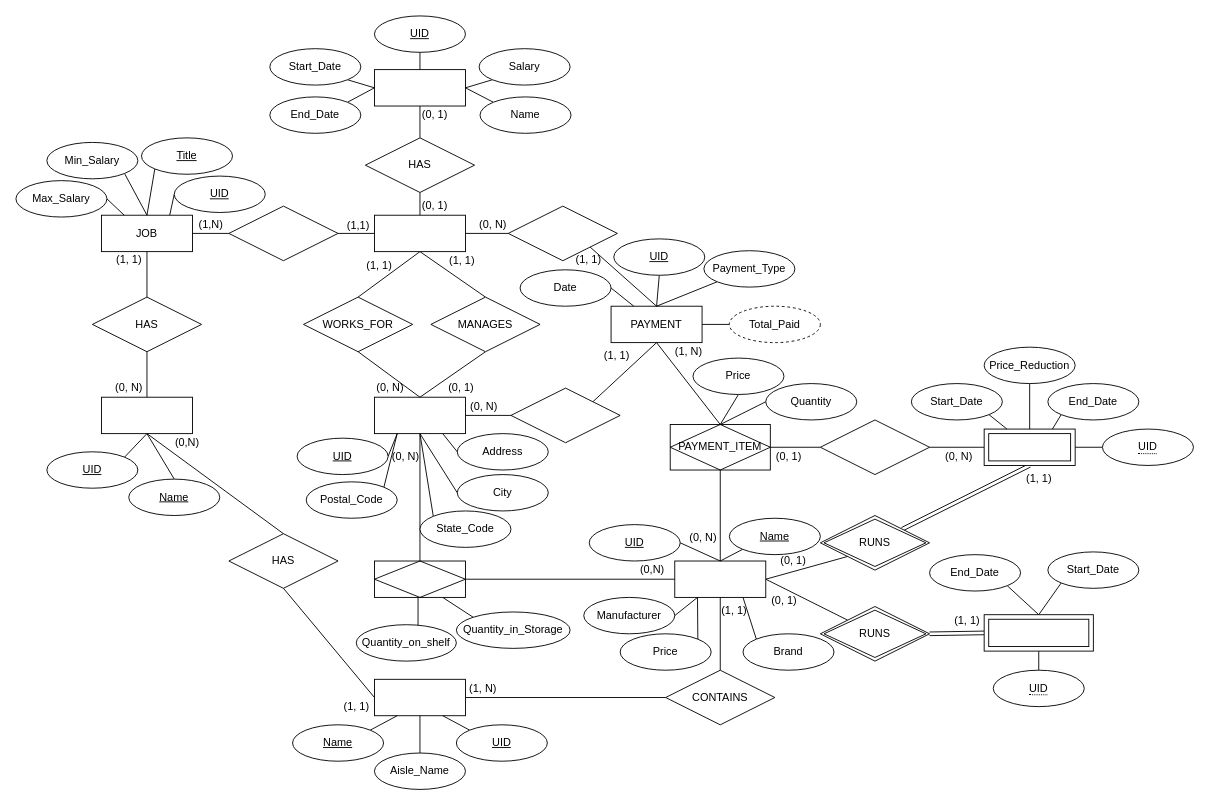
The diagram is 1209 pixels wide and 805 high, and some of its shapes have lost their labels. The shapes that lost their labels are listed below. From the top down, each one's box as (x1, y1, x2, y2) in pixels, then its label:
(374, 69, 465, 106): EMPLOYEE
(228, 205, 338, 261): PERFORMS
(374, 214, 465, 252): POSITION
(507, 205, 617, 261): REGISTERS
(101, 396, 192, 434): DEPARTMENT
(374, 396, 465, 434): STORE
(510, 387, 620, 443): FACILITATES
(819, 419, 930, 475): DISCOUNTS
(983, 428, 1075, 465): DEAL
(374, 560, 465, 597): INVENTORY
(674, 560, 766, 597): PRODUCT
(983, 614, 1093, 651): ADVERTISEMENT
(374, 678, 465, 716): SHELF
